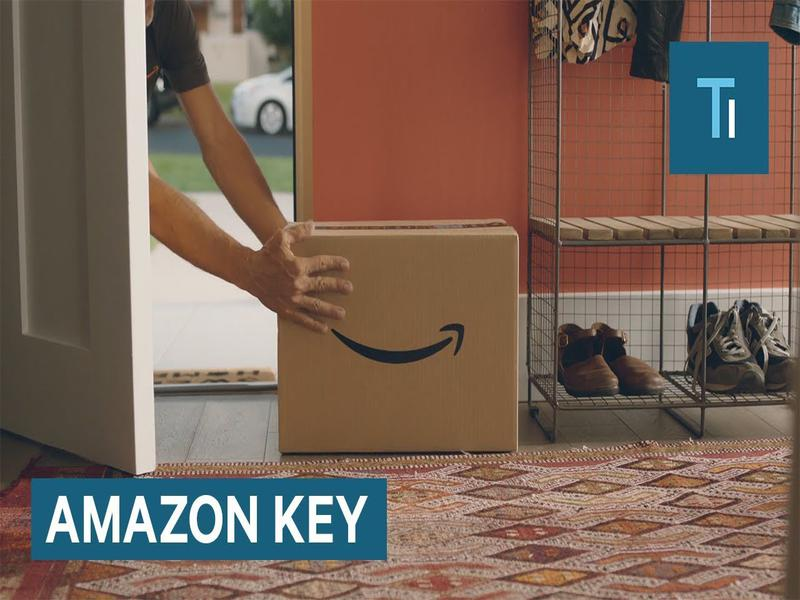package: (267, 213, 527, 463)
